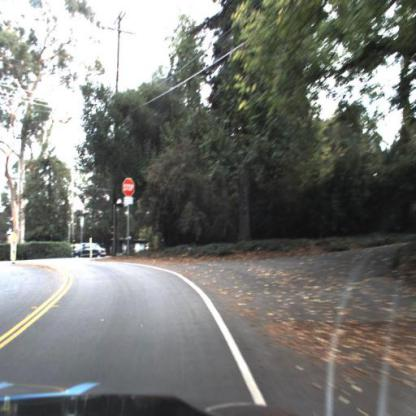car: (69, 235, 111, 264)
